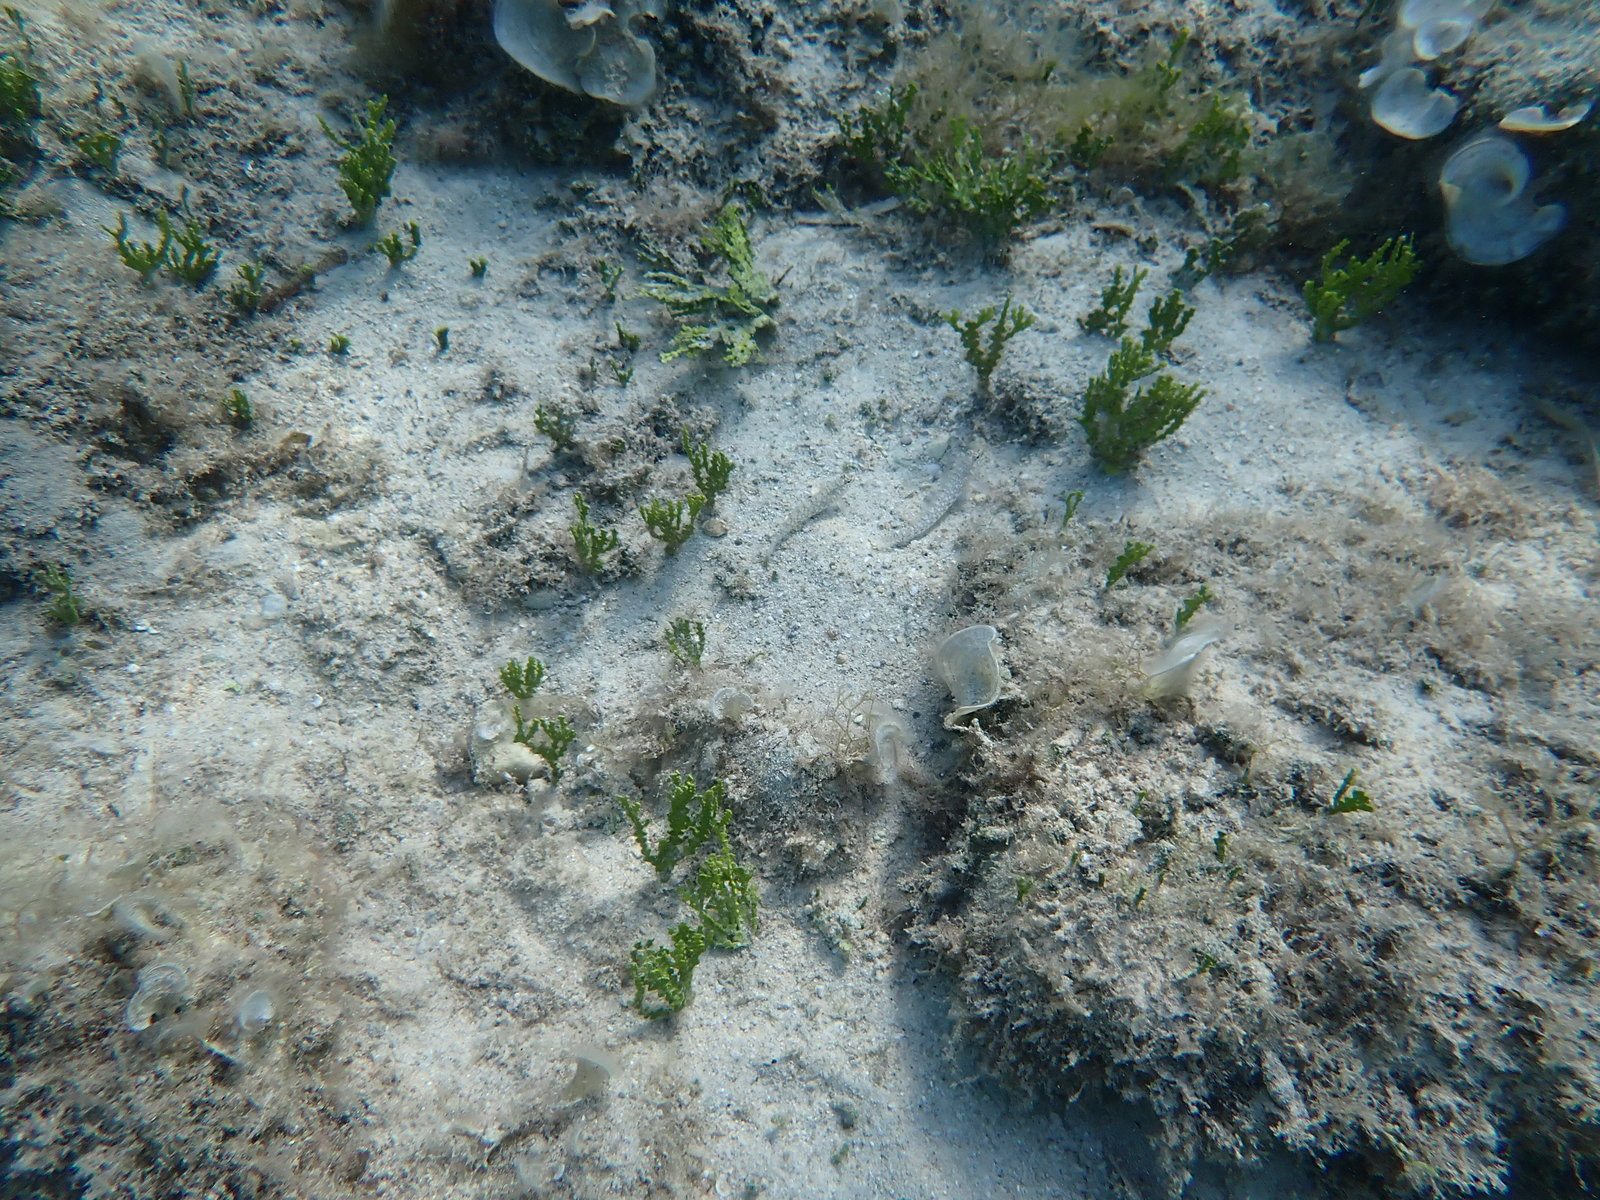halimeda: (1081, 354, 1212, 479), (1301, 237, 1424, 353), (312, 92, 398, 228), (612, 768, 695, 886), (893, 115, 968, 246), (944, 299, 1036, 400), (695, 838, 769, 949), (837, 83, 915, 183), (627, 920, 704, 1021), (629, 262, 782, 313), (506, 706, 583, 784), (968, 136, 1019, 248), (648, 319, 775, 364), (1078, 260, 1149, 337), (98, 209, 170, 274), (679, 432, 738, 507), (697, 195, 750, 275), (636, 495, 704, 550), (168, 218, 220, 287), (574, 493, 620, 574), (1146, 287, 1196, 345), (813, 187, 871, 234), (1107, 340, 1169, 384), (658, 616, 711, 667), (1112, 536, 1153, 601), (37, 558, 77, 623), (1327, 764, 1372, 816), (499, 652, 547, 700), (74, 130, 125, 173), (530, 402, 577, 447), (697, 787, 734, 842), (1177, 584, 1217, 633), (1017, 147, 1046, 216), (3, 63, 33, 124), (231, 261, 265, 314), (377, 229, 421, 268), (1203, 91, 1227, 159), (1174, 25, 1191, 93), (220, 388, 252, 424), (3, 3, 26, 44), (1186, 243, 1207, 282), (176, 61, 191, 115), (1209, 238, 1232, 274), (614, 323, 640, 353), (1065, 487, 1083, 526), (328, 333, 351, 361), (1013, 872, 1031, 903), (610, 361, 631, 384), (1188, 105, 1196, 164), (406, 221, 423, 246), (467, 255, 488, 274), (1213, 829, 1226, 858), (433, 326, 449, 350), (590, 354, 596, 383)
